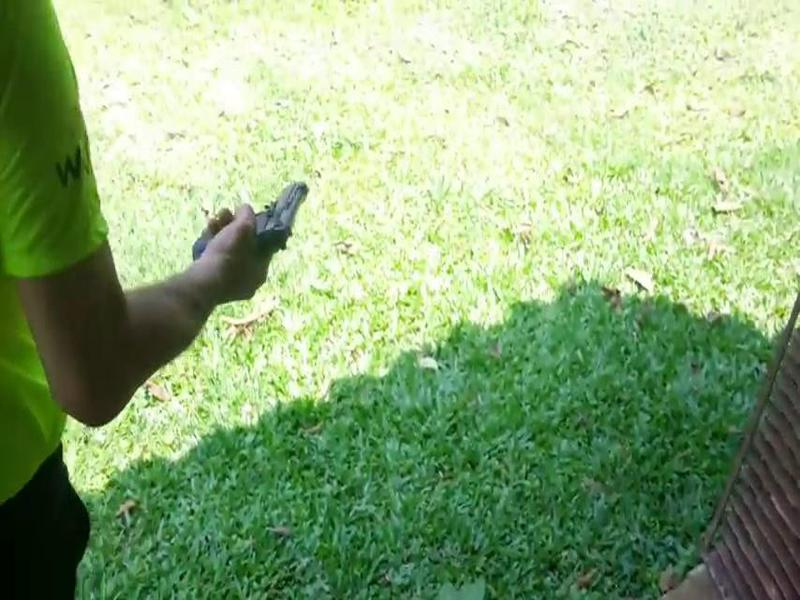Pistola: (194, 179, 314, 267)
